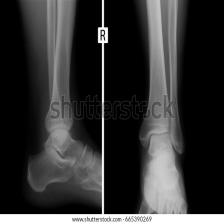greenstick-fracture: (17, 0, 188, 214)
